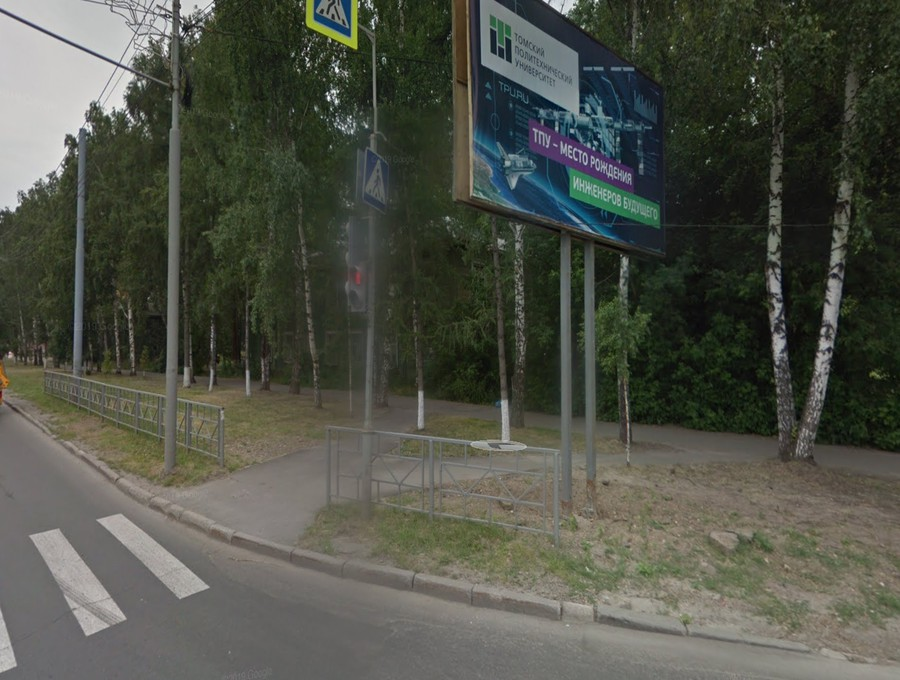Traffic Light-red: (342, 265, 371, 312)
